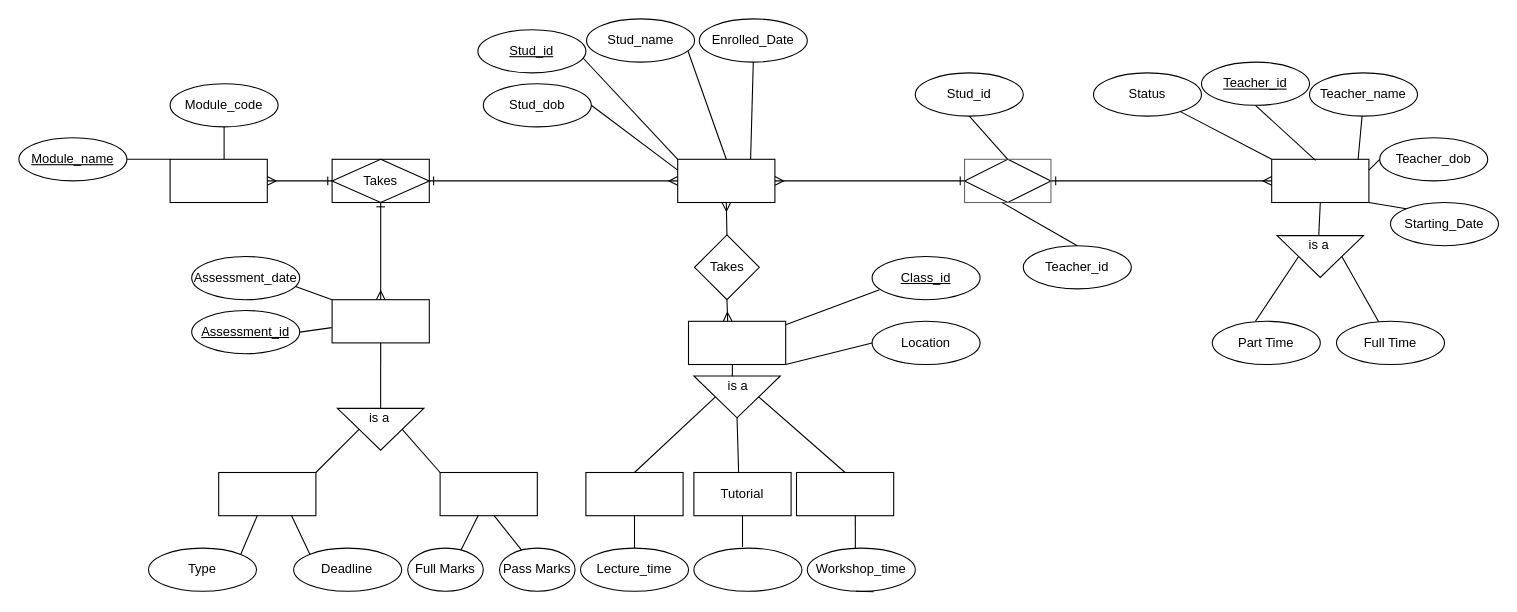
Image size: 1517x612. Some labels were removed from this diagram. The shapes that lost their labels are listed below. From the top down, each one's box as (x1, y1, x2, y2) in pixels, then its label:
(169, 158, 267, 202): Module
(677, 158, 775, 202): Student
(963, 158, 1051, 202): taught by
(1271, 158, 1369, 202): Teacher
(331, 299, 429, 343): Assessment
(687, 320, 786, 364): Class
(218, 471, 316, 516): Coursework
(439, 471, 537, 516): Exam
(585, 471, 683, 516): Lecture
(795, 471, 894, 516): Workshop
(693, 547, 802, 591): Tutorial_time
